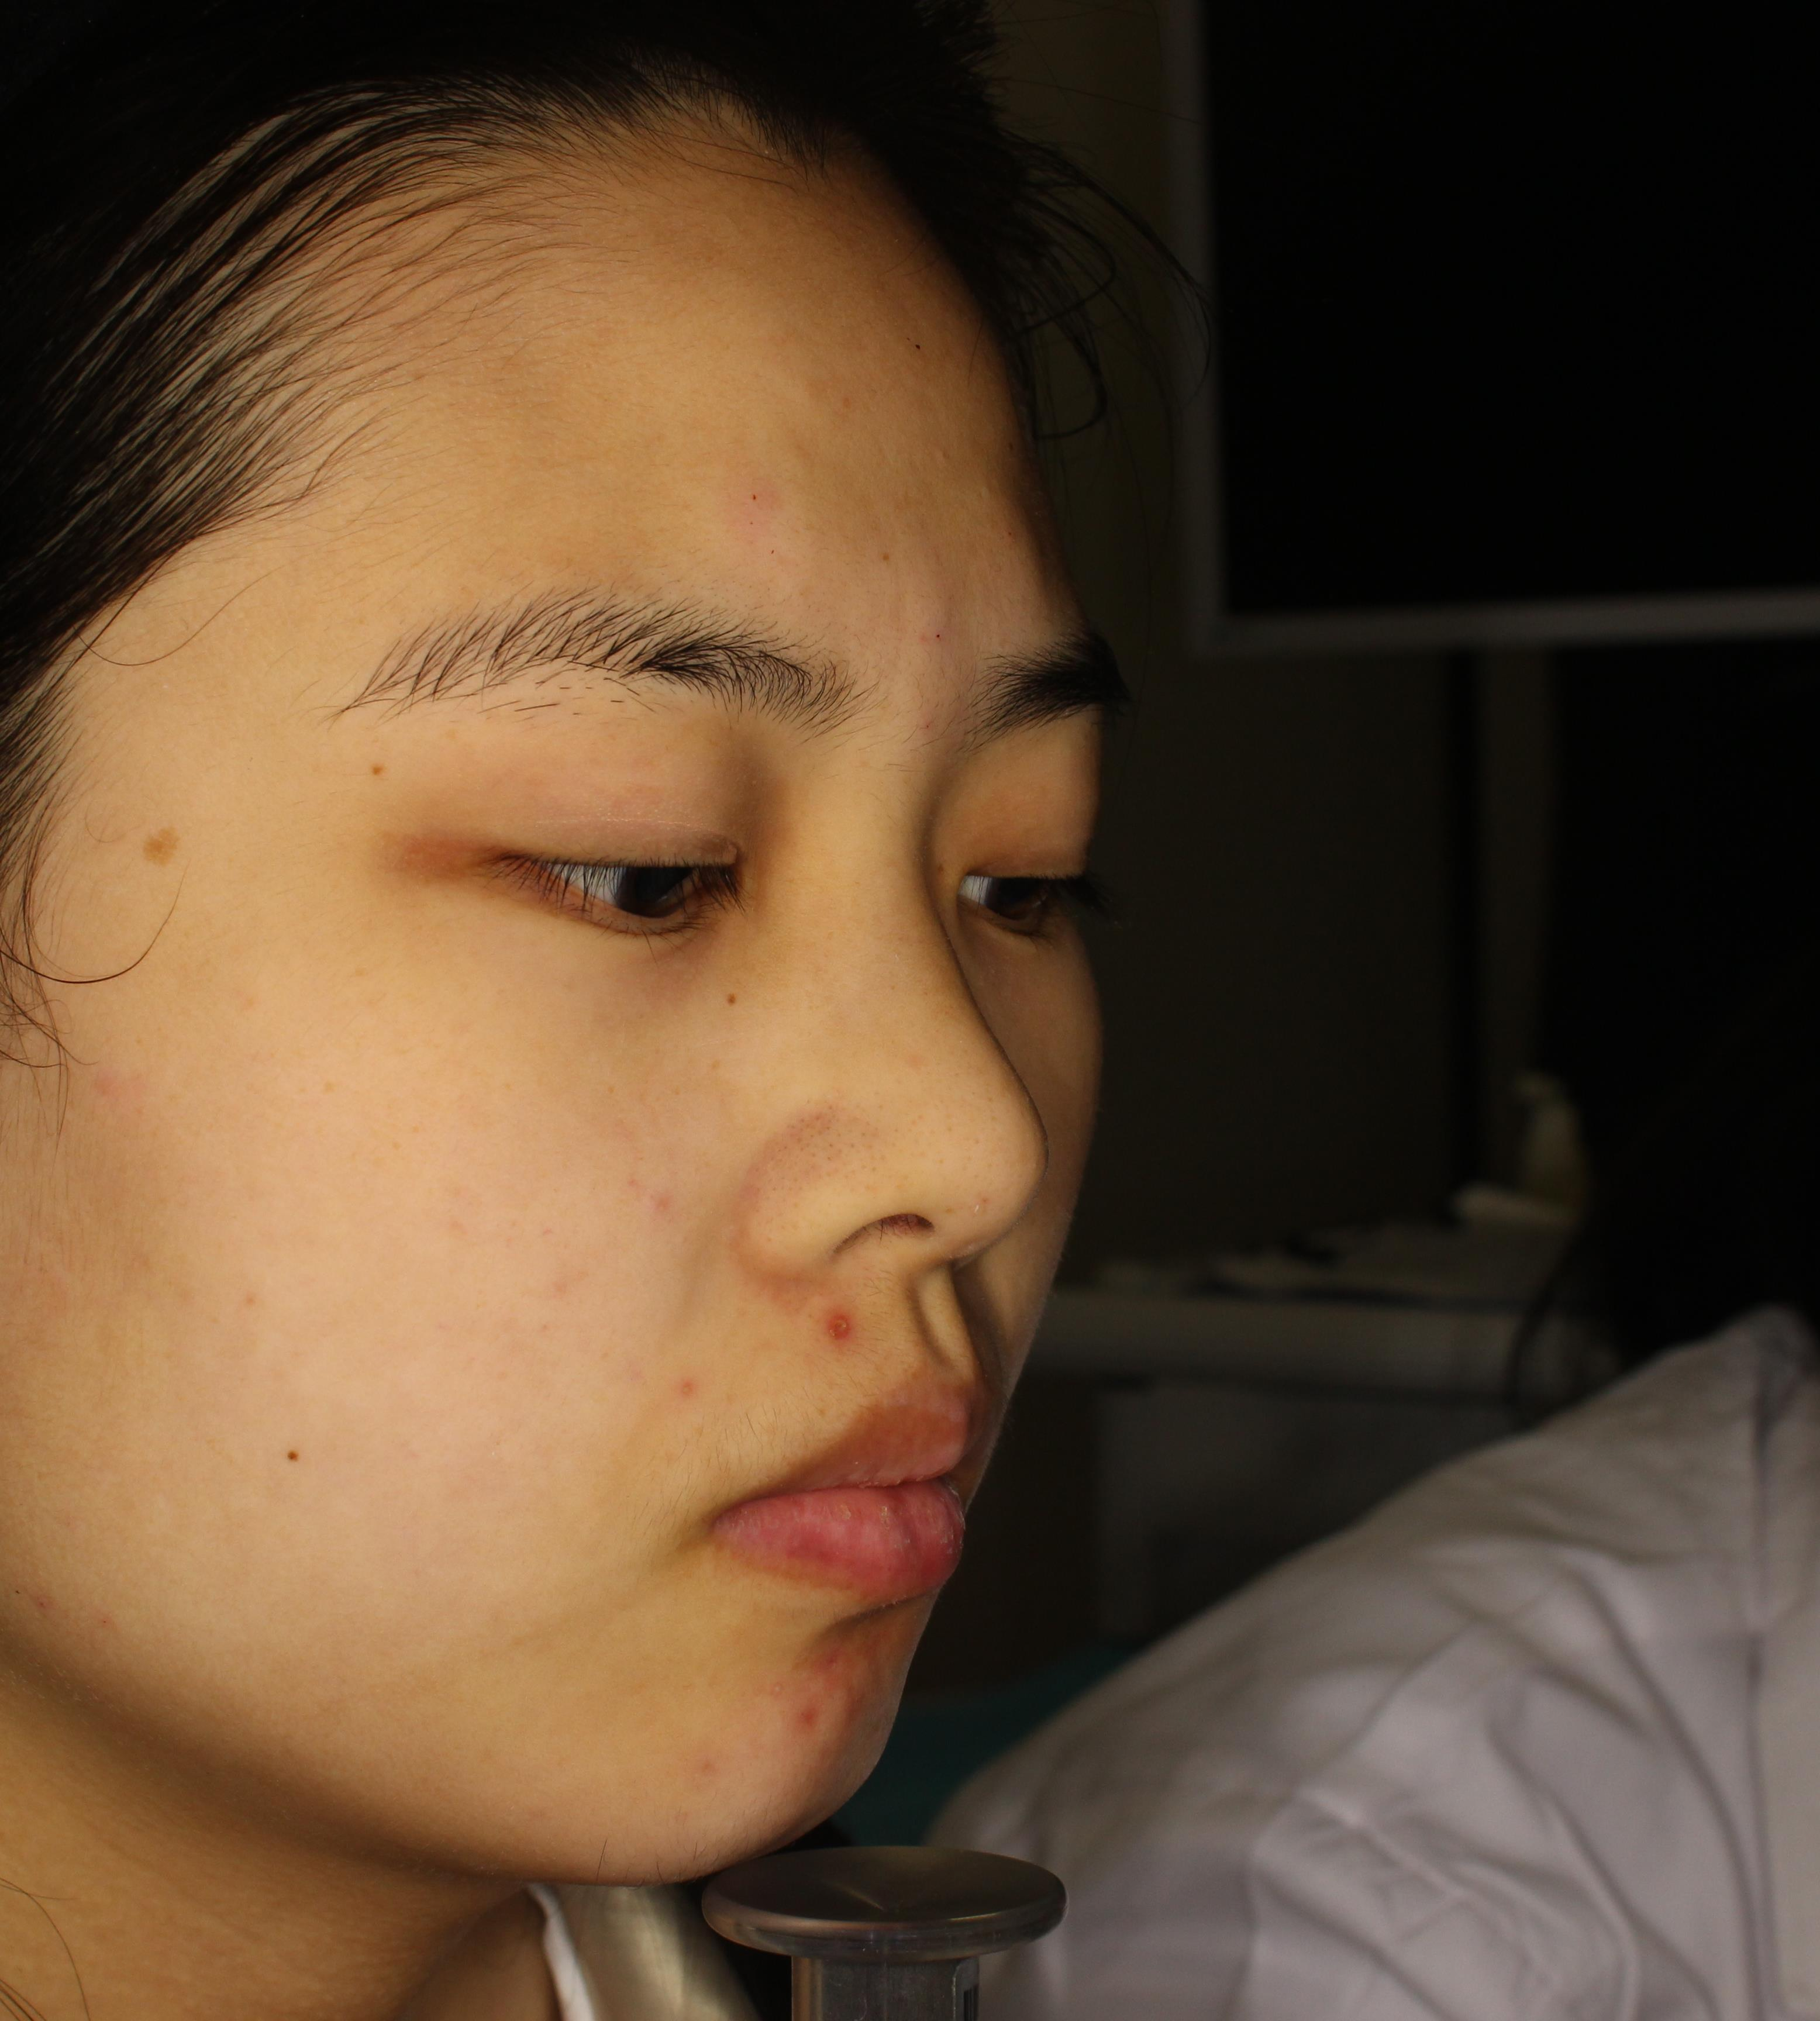fore: (817, 1643, 906, 1728), (820, 1280, 892, 1366)
